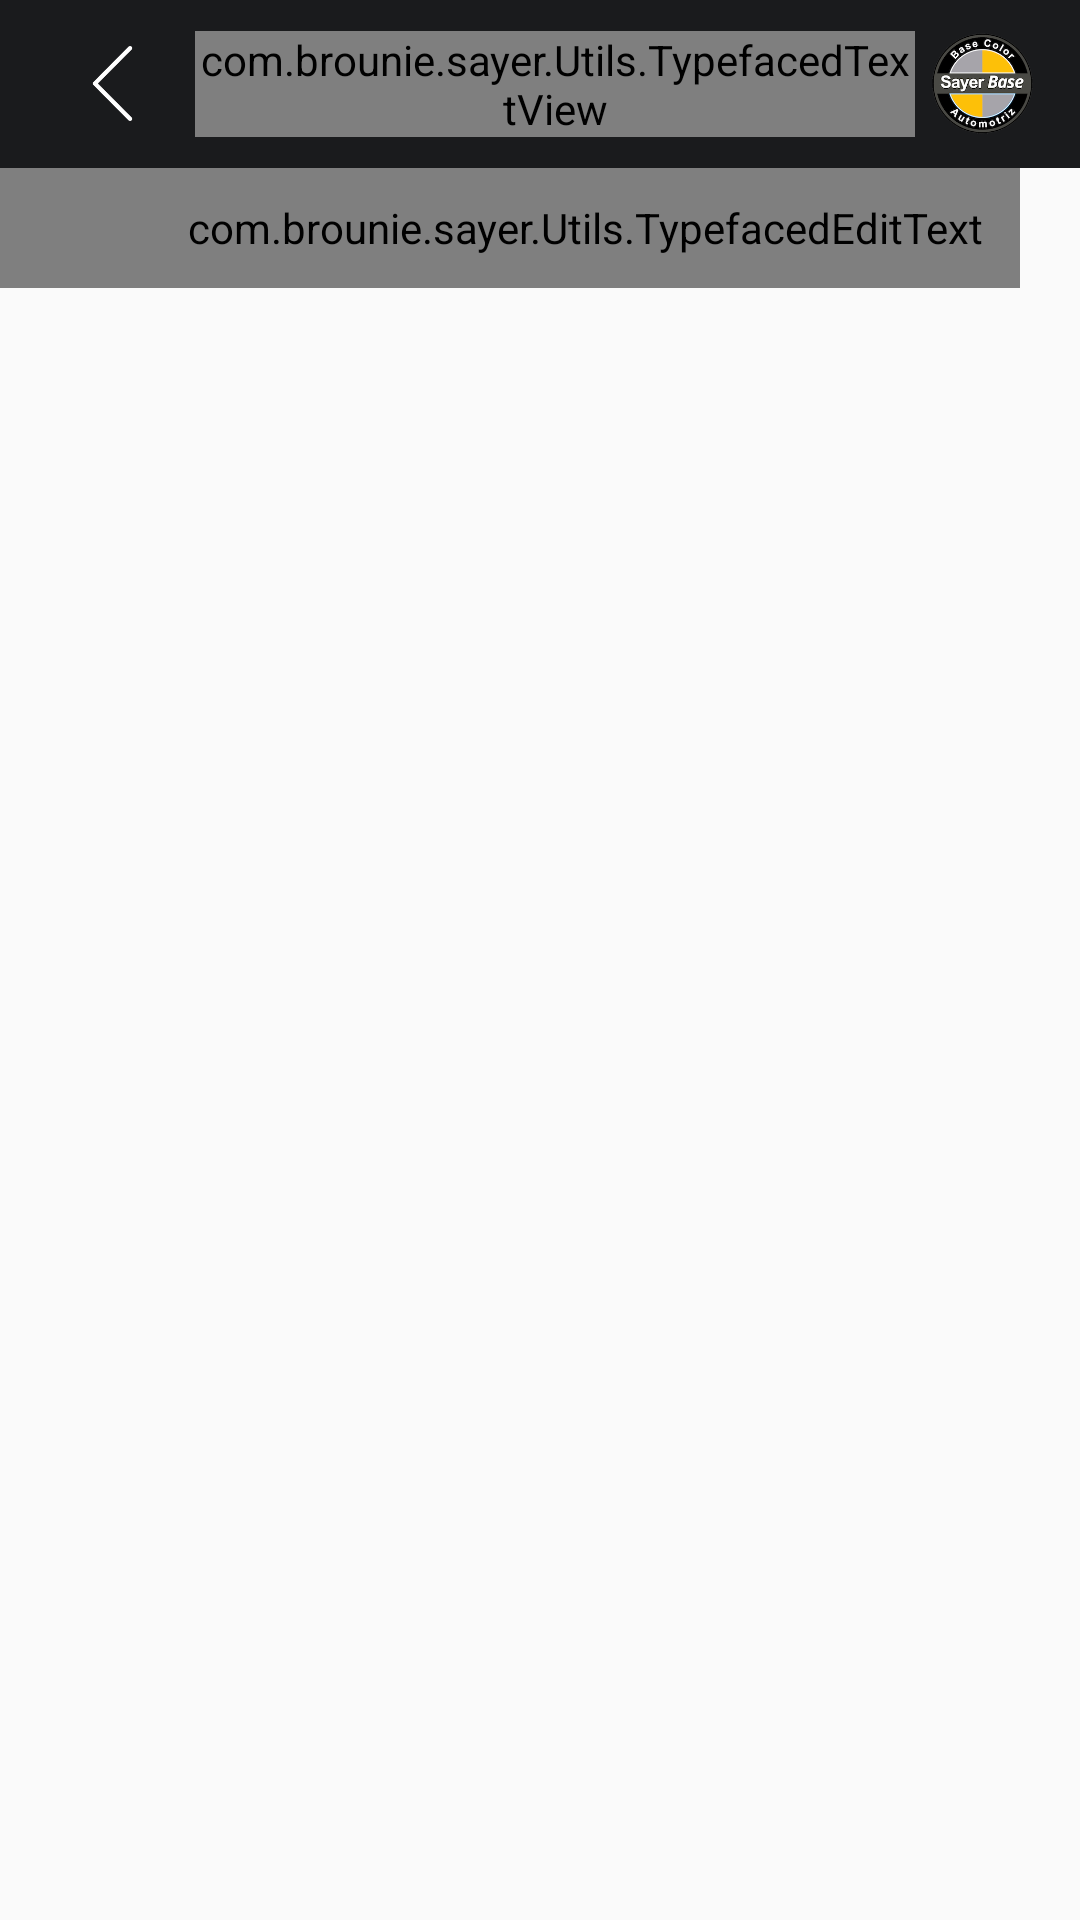

Named icons in this screenshot (1080x1920) and their centers, (x=x, y=y):
back: (x=112, y=83)
